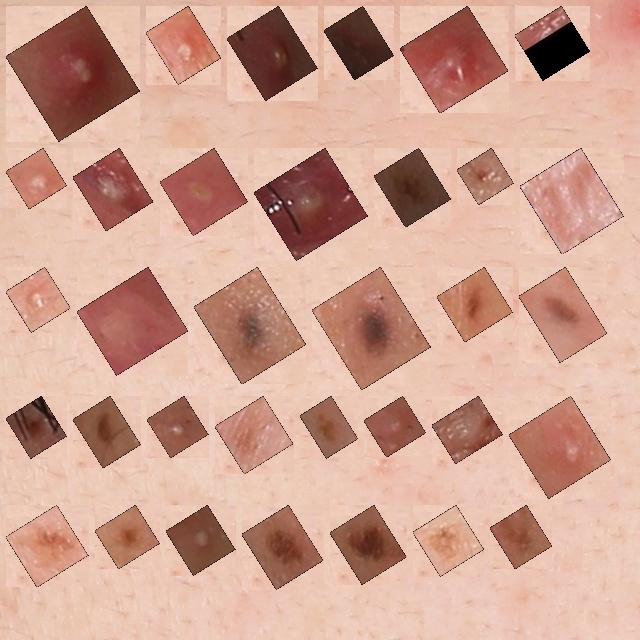hypertrophic_scar: (88, 278, 177, 364), (531, 159, 612, 243), (443, 407, 491, 452)
melasma: (226, 407, 282, 463), (311, 407, 347, 447)
nevus: (323, 278, 419, 379), (205, 278, 295, 373), (530, 278, 596, 351), (253, 516, 312, 578), (17, 516, 77, 576), (385, 159, 440, 216), (341, 516, 395, 573), (448, 278, 502, 331), (424, 516, 473, 565), (84, 407, 129, 457), (106, 516, 149, 558), (501, 516, 541, 557), (17, 407, 56, 447), (468, 159, 502, 193)
pustule: (17, 17, 129, 130), (265, 159, 357, 249), (411, 17, 497, 102), (520, 407, 600, 487), (238, 17, 306, 89), (171, 159, 237, 224), (84, 159, 142, 220), (157, 17, 210, 73), (526, 17, 579, 69), (335, 17, 383, 69), (177, 516, 224, 564), (17, 278, 59, 321), (375, 407, 415, 446), (17, 159, 56, 198), (158, 407, 197, 446)
